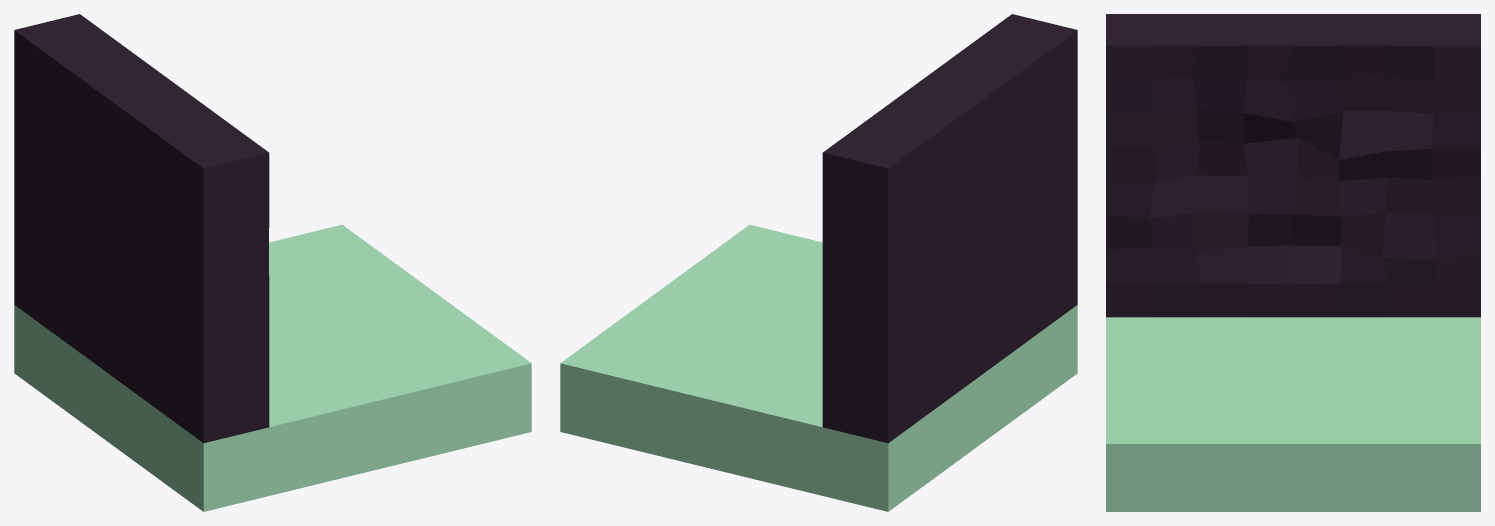
File: CliffSide.fbx
3 renders of one model, left to right at view 1: azimuth 30°, elevation 25°; view 2: azimuth 150°, elevation 25°; view 3: azimuth 270°, elevation 25°, orthographic.
Visible parts, largest first — view 1: CliffSide; view 2: CliffSide; view 3: CliffSide.
Boxes of the visible parts, x1,y1,x2,y2 form: CliffSide: (14,14,531,511); CliffSide: (560,14,1077,511); CliffSide: (1106,14,1480,511).
Bounding box in the file's own units: 200 × 200 × 200.
